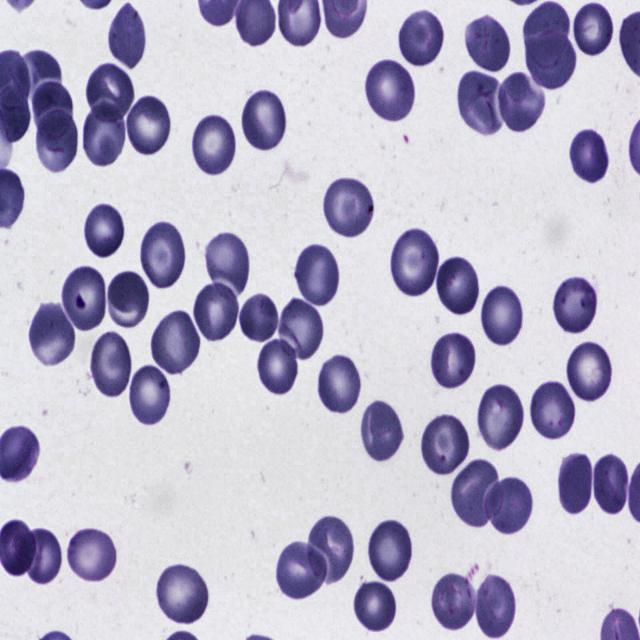red blood cell: (451, 454, 504, 534), (154, 559, 214, 628), (146, 307, 204, 378), (388, 224, 442, 300), (137, 217, 188, 292), (420, 412, 474, 481), (27, 299, 79, 370), (363, 58, 420, 122), (458, 66, 509, 137), (273, 539, 330, 602), (561, 339, 616, 404), (322, 174, 376, 240), (522, 27, 576, 92), (277, 297, 329, 364), (306, 514, 355, 584), (477, 382, 526, 452), (239, 86, 289, 154), (496, 70, 548, 135), (58, 266, 109, 332), (80, 98, 128, 168), (65, 524, 119, 586), (367, 516, 416, 583), (484, 474, 535, 538), (85, 61, 136, 125), (205, 229, 252, 298), (292, 242, 341, 308), (472, 570, 518, 640), (191, 278, 240, 343), (124, 92, 172, 158), (126, 362, 174, 428), (524, 1, 571, 68), (189, 113, 238, 177), (434, 253, 482, 318), (398, 6, 447, 69), (429, 330, 479, 391), (463, 12, 513, 73), (362, 395, 406, 463), (533, 375, 576, 444), (316, 352, 363, 415), (551, 275, 601, 333), (35, 105, 77, 174), (107, 267, 150, 334), (89, 332, 131, 400), (480, 285, 526, 347), (430, 572, 475, 635), (17, 49, 64, 108), (108, 4, 148, 70), (257, 335, 299, 397), (84, 201, 128, 260), (22, 523, 63, 585), (556, 449, 593, 516), (594, 451, 630, 518), (572, 2, 615, 58), (569, 128, 609, 186), (354, 579, 396, 634), (34, 83, 76, 135), (238, 293, 280, 341)
